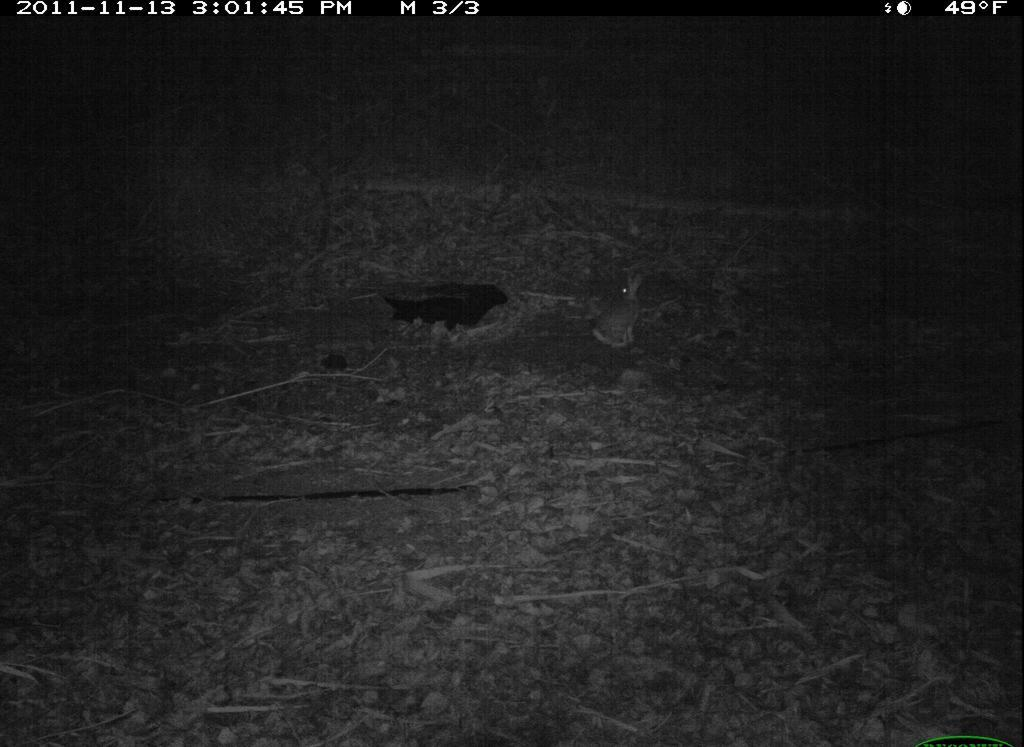rabbit: (584, 265, 658, 360)
